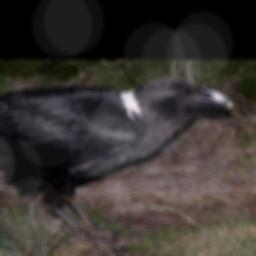Crow: (0, 77, 234, 256)
